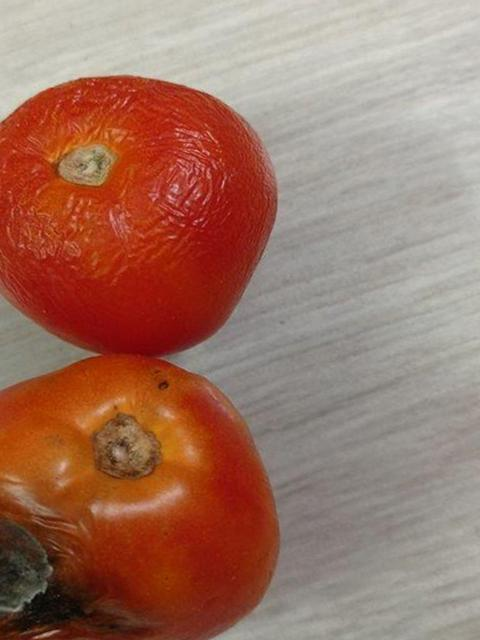defect: (0, 51, 304, 366)
